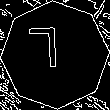L_S: (38, 29, 72, 81)
